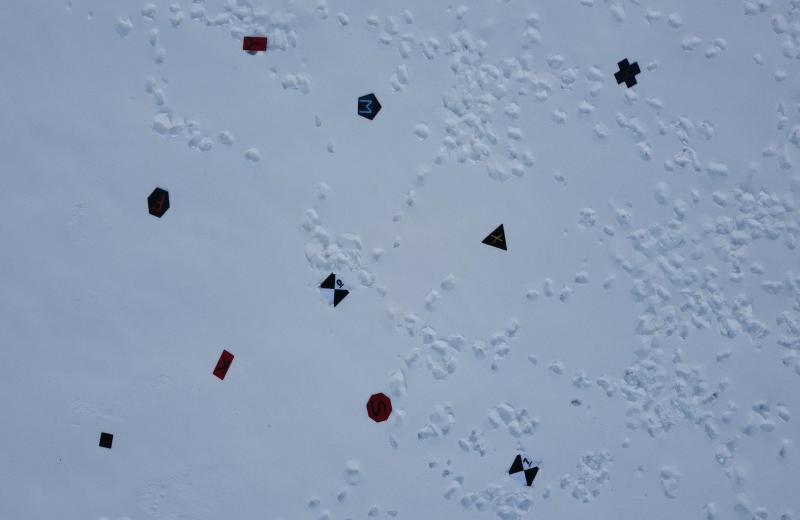Cross: (612, 56, 644, 91)
Hexagon: (144, 184, 172, 221)
Octagon: (363, 390, 394, 424)
Pentagon: (354, 89, 384, 124)
Rectangle: (211, 344, 237, 386), (240, 34, 270, 55)
Square: (95, 429, 116, 452)
Triangle: (478, 220, 511, 256)
